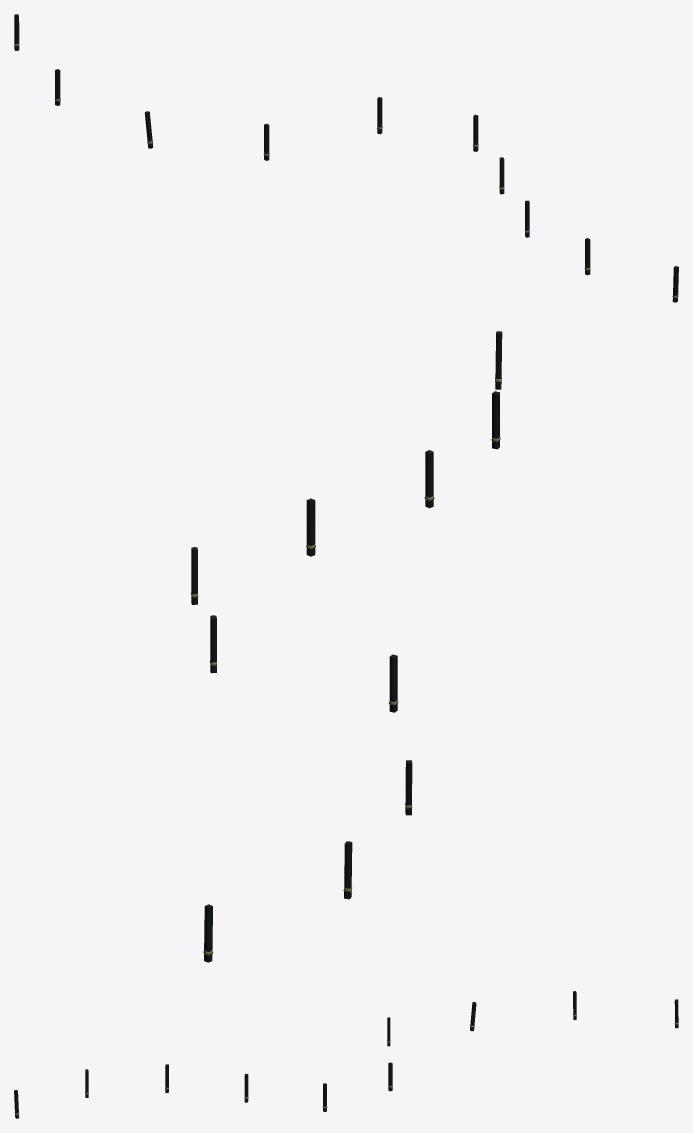
The model's file is Posts_Lake_COMBO.fbx.
The picture shows the model from 3 angles, top to bottom: view 1: azimuth 30°, elevation 25°; view 2: azimuth 150°, elevation 25°; view 3: azimuth 270°, elevation 25°; orthographic projection. The views are drawn at different scales.
Visible parts, largest first — view 1: ParkFence_Post; view 2: ParkFence_Post; view 3: ParkFence_Post.
Boxes of the visible parts, box(x1,y1,x2,y2) form: ParkFence_Post: box(14, 14, 678, 302); ParkFence_Post: box(190, 331, 502, 962); ParkFence_Post: box(14, 991, 678, 1118).
Bounding box in the file's own units: 8.73 × 1.5 × 24.21.
